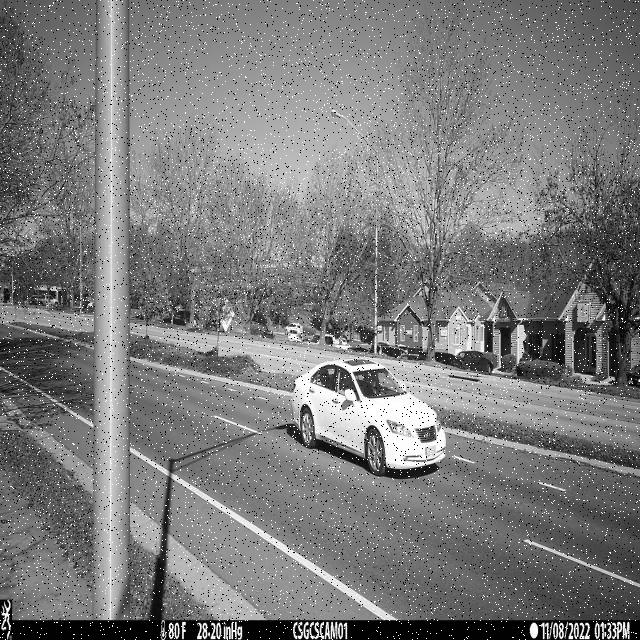Sedan: (290, 356, 447, 476)
